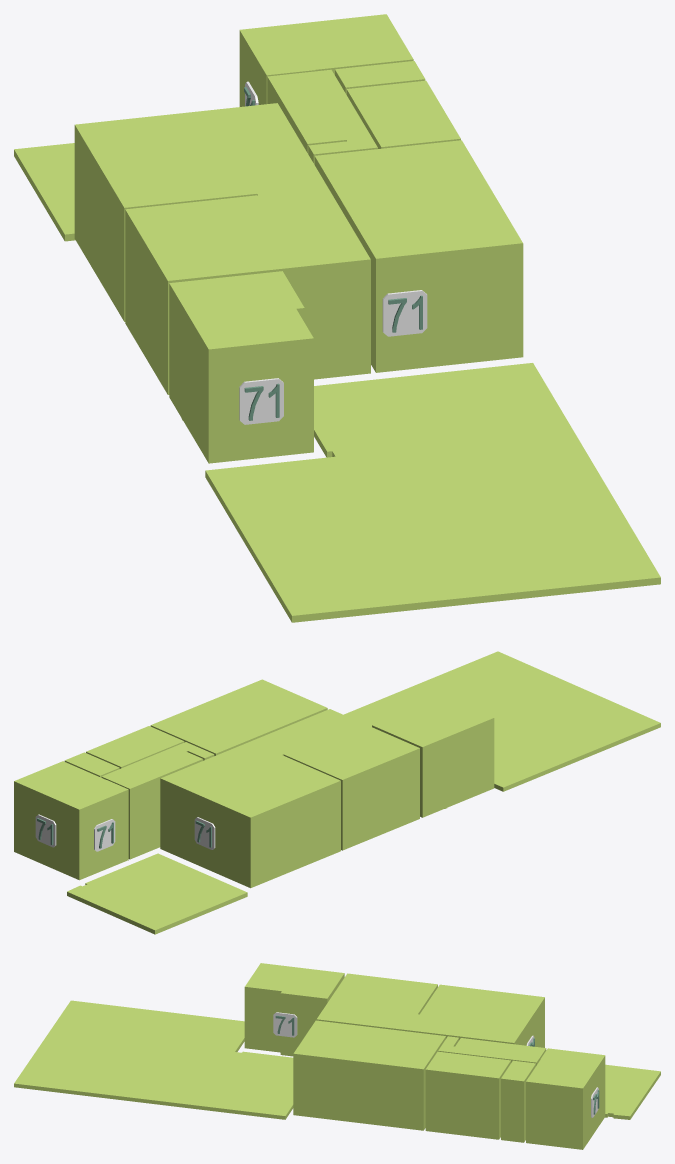
3 renders of one model, top to bottom at view 1: azimuth 30°, elevation 25°; view 2: azimuth 150°, elevation 25°; view 3: azimuth 270°, elevation 25°, orthographic. The views are drawn at different scales.
Visible parts, largest first — view 1: g_8, g_1, g_3, g_4, g_0, g_2, g_5, g_6, g_9, g_7, g_18, g_27; view 2: g_4, g_8, g_3, g_2, g_0, g_9, g_1, g_5, g_6, g_7, g_24, g_15 (+1 smaller); view 3: g_8, g_1, g_2, g_6, g_4, g_0, g_3, g_9, g_7, g_5, g_12.
Part boxes in pixels (<box>): g_8: <box>205,363,660,622</box>; g_1: <box>314,140,523,372</box>; g_3: <box>125,186,370,394</box>; g_4: <box>74,103,326,321</box>; g_0: <box>169,271,313,463</box>; g_2: <box>239,14,413,106</box>; g_5: <box>267,69,377,164</box>; g_6: <box>346,80,460,148</box>; g_9: <box>14,143,75,241</box>; g_7: <box>335,61,425,94</box>; g_18: <box>382,290,427,336</box>; g_27: <box>239,378,283,424</box>; g_4: <box>160,741,340,888</box>; g_8: <box>344,651,660,791</box>; g_3: <box>251,709,419,850</box>; g_2: <box>14,761,128,880</box>; g_0: <box>372,697,494,817</box>; g_9: <box>67,853,247,934</box>; g_1: <box>150,679,327,755</box>; g_5: <box>101,742,214,859</box>; g_6: <box>86,726,184,768</box>; g_7: <box>64,752,119,777</box>; g_24: <box>194,817,215,849</box>; g_15: <box>35,814,56,847</box>; g_8: <box>14,1000,293,1119</box>; g_1: <box>293,1020,445,1130</box>; g_2: <box>526,1048,605,1149</box>; g_6: <box>425,1051,510,1139</box>; g_4: <box>409,984,544,1047</box>; g_0: <box>244,963,344,1056</box>; g_3: <box>316,973,437,1031</box>; g_9: <box>605,1064,660,1119</box>; g_7: <box>501,1060,535,1142</box>; g_5: <box>438,1036,546,1065</box>; g_12: <box>273,1012,297,1037</box>.
Size of the model in its own units: 12.99 by 2.65 by 23.7.
